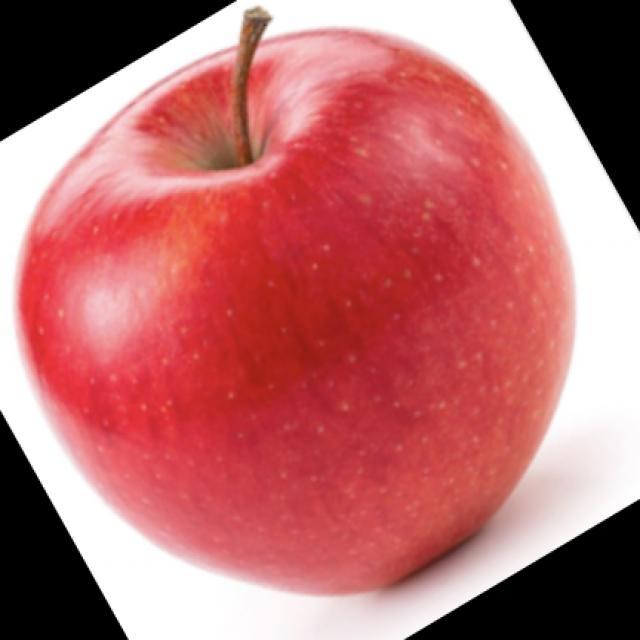Fresh Apple: (23, 21, 579, 599)
